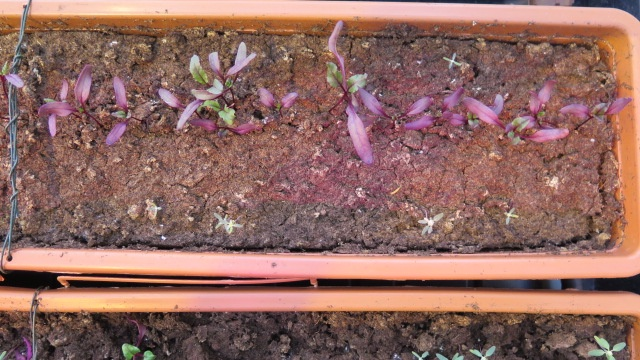crop: (324, 24, 375, 165), (464, 96, 569, 149), (36, 65, 103, 135), (188, 44, 255, 103), (357, 86, 429, 129), (400, 87, 467, 132), (104, 73, 145, 145), (563, 97, 633, 134), (189, 114, 264, 142), (524, 78, 555, 137), (257, 86, 298, 119), (120, 341, 159, 360)
weed: (587, 336, 627, 360), (417, 212, 445, 237), (212, 213, 243, 235), (438, 51, 463, 70), (501, 206, 520, 225), (147, 204, 163, 216)
